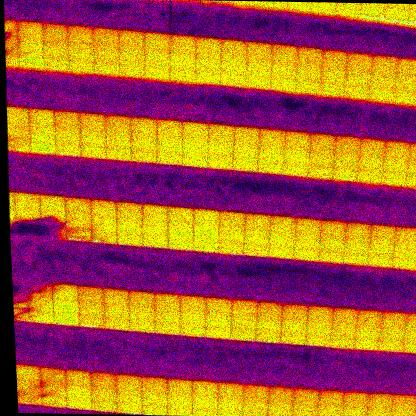Diode: (255, 328, 281, 344)
Hotspot: (370, 56, 398, 73), (43, 54, 69, 72), (91, 228, 118, 245), (381, 171, 407, 188), (65, 212, 92, 228), (131, 146, 157, 162), (217, 239, 244, 254), (308, 162, 333, 178), (91, 398, 117, 413), (218, 225, 244, 240), (392, 87, 416, 103), (243, 242, 270, 256), (65, 226, 92, 240), (319, 80, 346, 94), (294, 78, 321, 92), (42, 40, 69, 54), (230, 326, 256, 340), (78, 313, 104, 327), (333, 166, 359, 180), (55, 140, 80, 154), (360, 3, 385, 16), (141, 403, 167, 415)
Normal: (317, 390, 344, 408), (258, 128, 285, 146), (308, 133, 336, 150), (234, 126, 260, 144), (131, 116, 157, 134), (271, 46, 297, 64), (246, 44, 272, 62), (221, 40, 247, 58), (144, 32, 170, 50), (207, 124, 234, 141), (89, 371, 116, 388), (195, 40, 222, 57), (343, 392, 368, 410), (19, 51, 44, 69), (297, 47, 322, 65), (115, 202, 143, 218), (384, 142, 412, 158), (307, 305, 333, 322), (218, 211, 244, 228), (268, 387, 294, 404), (281, 304, 308, 320), (366, 394, 393, 410), (141, 233, 168, 249), (193, 209, 220, 225), (64, 196, 91, 212), (359, 140, 386, 156), (182, 122, 209, 138), (79, 114, 106, 130), (270, 74, 297, 90), (67, 26, 94, 42), (41, 24, 68, 40), (257, 301, 282, 318), (94, 28, 119, 45), (356, 309, 384, 324), (230, 300, 258, 315), (141, 204, 169, 219), (345, 223, 371, 239), (167, 206, 193, 222), (243, 384, 269, 400), (233, 154, 259, 170), (334, 138, 360, 154), (284, 132, 310, 148), (169, 65, 195, 81), (346, 54, 372, 70), (322, 51, 348, 67), (170, 36, 196, 52), (118, 30, 144, 46), (393, 394, 416, 412), (204, 298, 233, 312), (243, 214, 272, 228), (153, 294, 180, 309), (192, 223, 219, 238), (319, 221, 346, 236), (90, 200, 117, 215), (28, 109, 55, 124), (370, 72, 397, 87), (280, 329, 307, 344), (66, 394, 91, 410), (343, 248, 368, 264), (193, 237, 218, 253), (293, 389, 318, 405), (182, 150, 207, 166), (106, 116, 131, 132), (119, 60, 144, 76), (331, 308, 359, 322), (355, 168, 383, 182), (357, 156, 385, 170), (194, 69, 222, 83), (168, 52, 196, 66), (103, 301, 129, 316), (128, 292, 154, 307), (292, 245, 318, 260), (167, 235, 193, 250), (370, 225, 396, 240), (141, 219, 167, 234), (295, 220, 321, 235), (91, 214, 117, 229), (29, 123, 55, 138), (53, 112, 79, 127), (144, 63, 170, 78), (94, 58, 120, 73), (68, 57, 94, 72), (18, 36, 42, 52), (385, 4, 409, 20), (204, 324, 231, 338), (379, 324, 406, 338), (52, 310, 79, 324), (180, 296, 207, 310), (217, 396, 244, 410), (368, 240, 395, 254), (116, 231, 143, 245), (243, 229, 270, 243), (166, 222, 193, 236), (115, 218, 142, 232), (282, 161, 309, 175), (207, 154, 234, 168), (333, 152, 360, 166), (308, 149, 335, 163), (105, 144, 132, 158), (79, 142, 106, 156), (244, 74, 271, 88), (296, 65, 323, 79), (67, 42, 94, 56), (377, 336, 402, 351), (153, 320, 181, 333), (381, 310, 407, 324), (53, 296, 79, 310), (366, 252, 392, 266), (167, 392, 193, 406), (318, 247, 344, 261), (14, 194, 40, 208), (258, 158, 284, 172), (381, 157, 407, 171), (156, 149, 182, 163), (192, 380, 218, 394), (166, 378, 192, 392), (116, 376, 142, 390), (345, 84, 371, 98), (320, 67, 348, 80), (118, 46, 144, 60), (17, 22, 43, 36), (304, 332, 332, 345), (271, 215, 295, 230), (394, 228, 416, 244), (105, 132, 132, 145), (156, 121, 183, 134), (93, 45, 120, 58), (243, 398, 268, 412), (78, 286, 103, 300), (391, 254, 416, 268), (268, 244, 293, 258), (66, 382, 91, 396), (218, 382, 243, 396), (30, 139, 55, 153), (157, 136, 182, 150), (368, 86, 393, 100), (220, 71, 245, 85), (346, 70, 371, 84), (144, 48, 169, 62), (179, 322, 205, 335), (192, 394, 218, 407), (141, 391, 167, 404), (39, 196, 65, 209), (283, 148, 309, 161), (182, 138, 208, 151), (130, 134, 156, 147), (141, 377, 167, 390), (116, 401, 142, 414), (353, 335, 379, 348), (230, 314, 258, 326), (257, 146, 285, 158), (392, 73, 416, 87), (103, 315, 130, 327), (293, 234, 320, 246), (207, 140, 234, 152), (79, 130, 106, 142), (271, 63, 298, 75), (328, 334, 355, 346), (393, 242, 416, 256), (395, 59, 416, 74), (355, 324, 381, 336), (331, 324, 357, 336), (256, 316, 282, 328), (205, 312, 231, 324), (154, 308, 180, 320), (78, 300, 104, 312), (269, 230, 293, 243), (116, 390, 142, 402), (54, 128, 80, 140), (246, 62, 272, 74), (180, 310, 205, 322), (129, 306, 154, 318), (344, 238, 369, 250), (221, 58, 246, 70), (196, 56, 221, 68), (65, 370, 90, 382), (293, 404, 318, 416), (268, 404, 293, 416), (17, 378, 40, 391), (129, 318, 155, 329), (103, 290, 129, 301), (233, 144, 259, 155), (319, 236, 344, 247), (91, 388, 118, 398), (306, 322, 332, 332), (281, 320, 307, 330), (16, 366, 39, 377), (317, 408, 342, 416), (403, 339, 416, 353), (404, 326, 416, 340)
Shadow: (15, 206, 41, 223), (40, 224, 66, 238), (15, 222, 41, 236), (27, 295, 54, 308), (40, 210, 65, 224), (40, 366, 65, 380), (28, 309, 53, 322), (40, 394, 67, 406), (27, 284, 53, 296), (52, 284, 78, 296), (40, 380, 66, 392), (17, 391, 40, 404)
